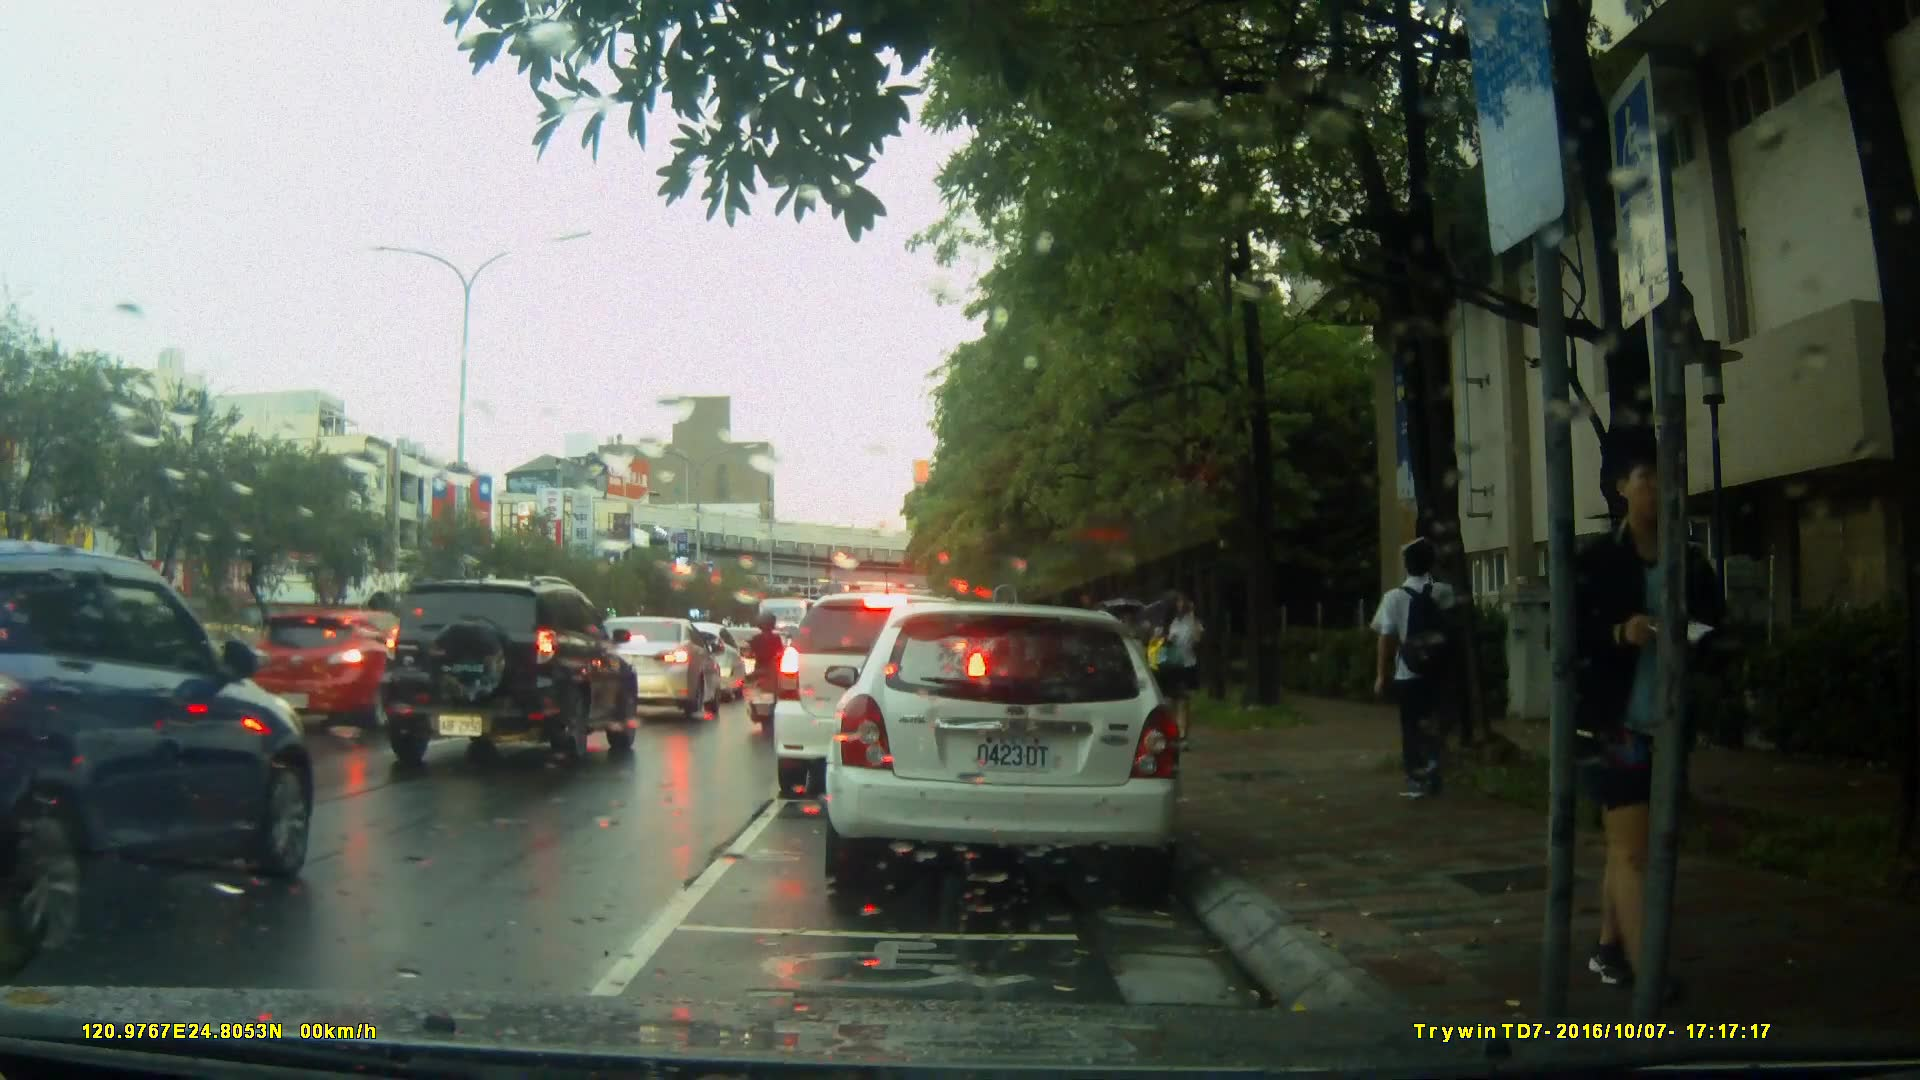pedestrian: (1583, 419, 1737, 984), (1362, 532, 1481, 807), (1147, 581, 1206, 740)
rider: (737, 607, 788, 733)
vehicle: (4, 533, 322, 924), (815, 593, 1202, 902), (374, 573, 642, 773), (771, 590, 995, 802), (243, 608, 446, 731), (564, 614, 716, 728)
